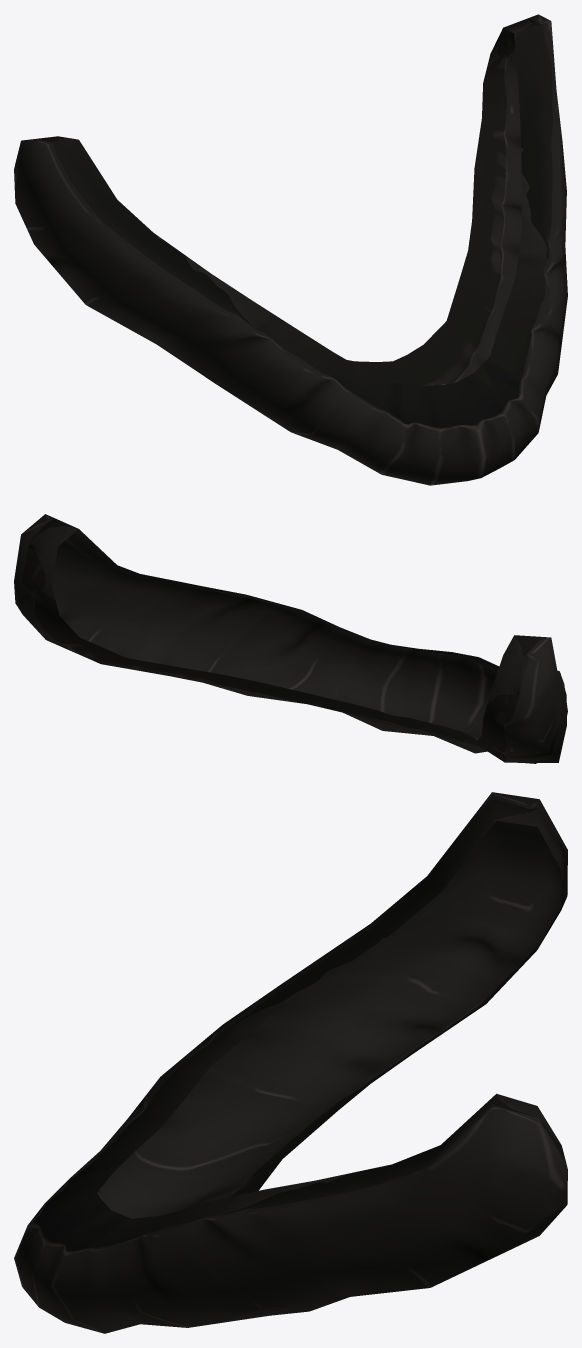
File: beard4.fbx
The picture shows the model from 3 angles, top to bottom: view 1: azimuth 30°, elevation 25°; view 2: azimuth 150°, elevation 25°; view 3: azimuth 270°, elevation 25°; orthographic projection. The views are drawn at different scales.
Visible parts, largest first — view 1: beard4; view 2: beard4; view 3: beard4.
Part boxes in pixels (x1,y1,x2,y2): beard4: (14, 14, 567, 485); beard4: (14, 514, 567, 763); beard4: (14, 792, 567, 1333).
Bounding box in the file's own units: 12.73 × 6.41 × 9.14.
